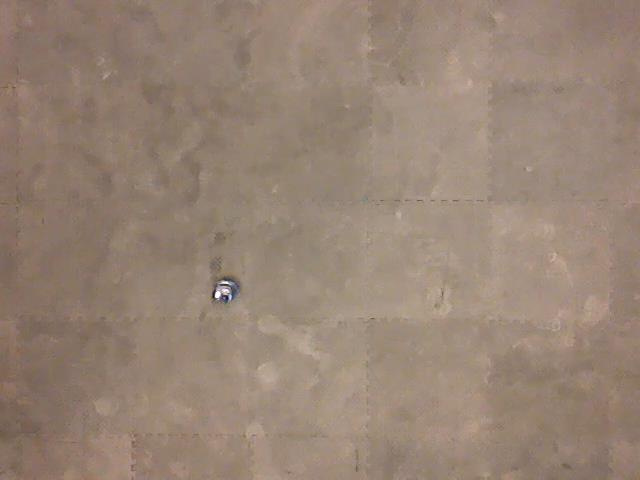Agent: (209, 276, 240, 306)
